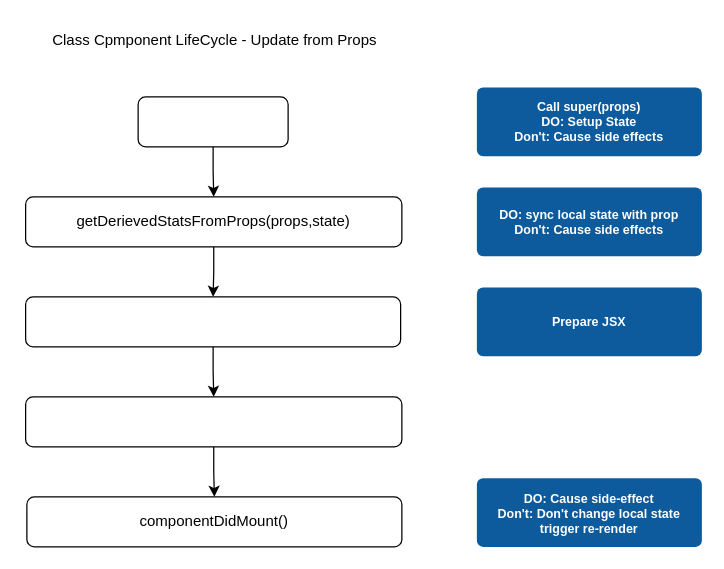
This 724x569 diagram has some shape labels left out. Here are the shapes that lost their labels. From the top down, the box of each, then its label:
(137, 96, 288, 147): constructor(props)
(24, 296, 401, 347): render()
(24, 396, 402, 447): Render Child Components
